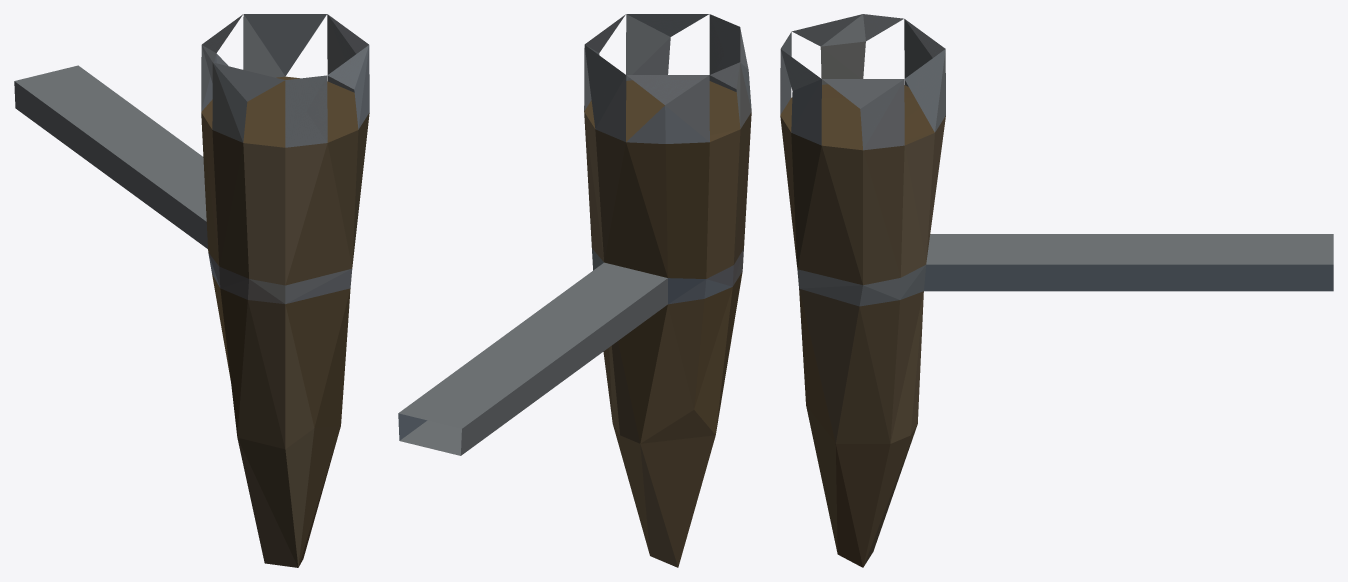
File: Prop-CaveTorchB.fbx
The picture shows the model from 3 angles, left to right: view 1: azimuth 30°, elevation 25°; view 2: azimuth 150°, elevation 25°; view 3: azimuth 270°, elevation 25°; orthographic projection.
Parts seen in each view (by area): view 1: Prop-CaveTorchB; view 2: Prop-CaveTorchB; view 3: Prop-CaveTorchB.
Part boxes in pixels (box(x1,y1,x2,y2)): Prop-CaveTorchB: box(14, 14, 369, 567); Prop-CaveTorchB: box(398, 14, 751, 567); Prop-CaveTorchB: box(780, 14, 1333, 567).
Bounding box in the file's own units: 21.36 × 72.54 × 71.29.
